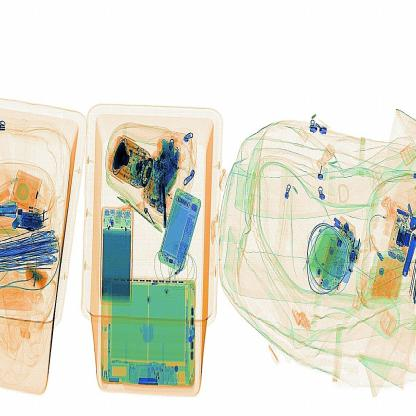knife: (154, 168, 176, 235)
